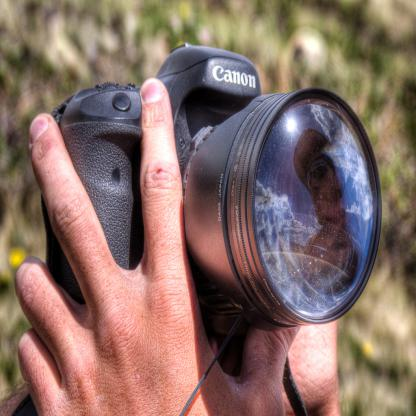Camera: (71, 55, 379, 339)
